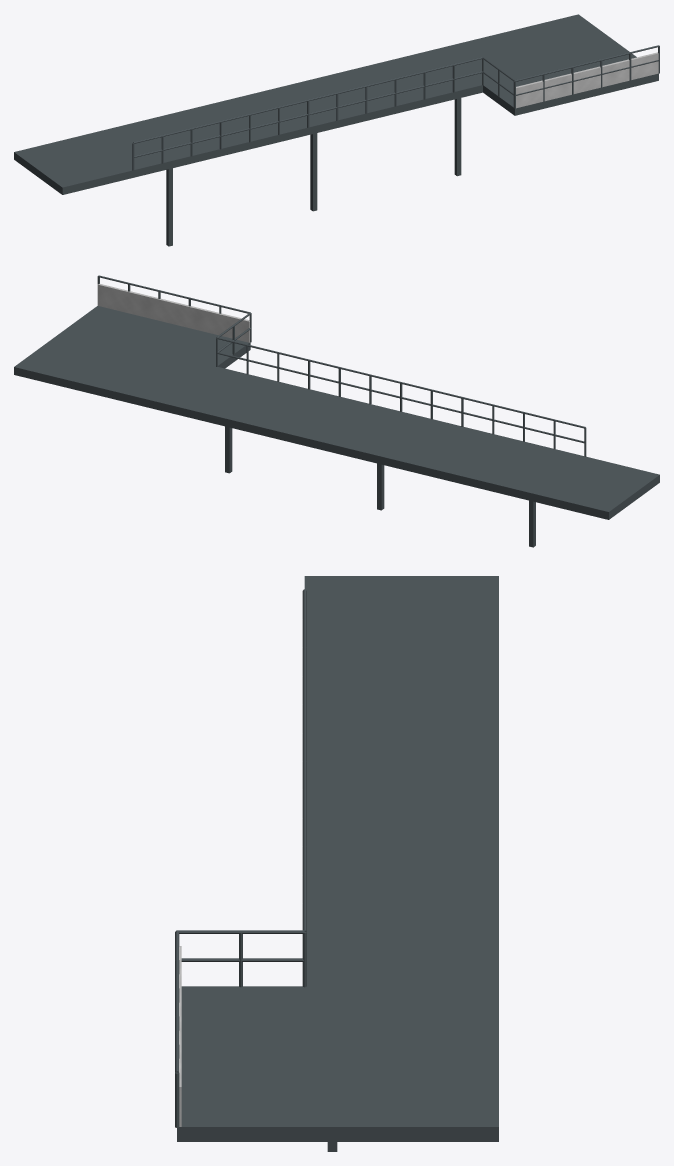
Rendered from catwalk.glb.
The picture shows the model from 3 angles, top to bottom: view 1: azimuth 30°, elevation 25°; view 2: azimuth 150°, elevation 25°; view 3: azimuth 270°, elevation 25°; orthographic projection. The views are drawn at different scales.
Visible parts, largest first — view 1: catwalk_Steel, catwalk_Teal; view 2: catwalk_Steel, catwalk_Teal; view 3: catwalk_Steel.
Boxes of the visible parts, x1,y1,x2,y2 form: catwalk_Steel: [14, 14, 659, 246]; catwalk_Teal: [516, 52, 658, 108]; catwalk_Steel: [14, 275, 659, 547]; catwalk_Teal: [97, 284, 249, 342]; catwalk_Steel: [175, 576, 498, 1151].
Size of the model in its own units: 23.54 by 4.71 by 5.84.
Materials: 2 (1 with a texture image).
